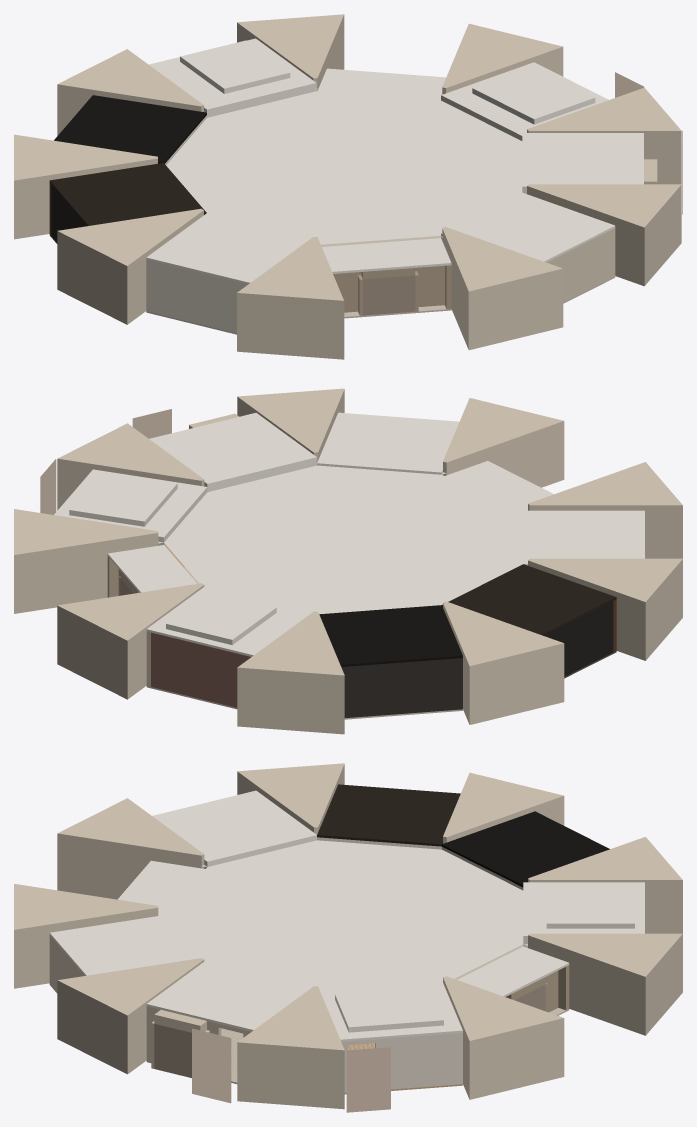
3 renders of one model, top to bottom at view 1: azimuth 30°, elevation 25°; view 2: azimuth 150°, elevation 25°; view 3: azimuth 270°, elevation 25°, orthographic.
Parts seen in each view (by area): view 1: plafon aula, blok sudut.013, blok sudut.014, blok sudut.015, blok sudut.012, plafon.015, plafon.012, blok sudut.016, plafon.017, plafon.016, plafon.013, blok sudut.011 (+16 smaller); view 2: plafon aula, blok sudut.017, blok sudut.016, blok sudut.010, blok sudut.009, blok sudut.015, blok sudut.013, plafon.017, plafon.013, plafon.012, plafon.016, blok sudut.014 (+15 smaller); view 3: plafon aula, blok sudut.009, blok sudut.011, blok sudut.010, blok sudut.012, blok sudut.014, plafon.016, plafon.012, plafon.015, blok sudut.013, plafon.017, blok sudut.017 (+15 smaller).
Part boxes in pixels (box(x1,y1,x2,y2)): plafon aula: box(166, 91, 522, 244); blok sudut.013: box(442, 227, 563, 350); blok sudut.014: box(237, 237, 344, 359); blok sudut.015: box(57, 208, 203, 324); blok sudut.012: box(527, 184, 681, 286); plafon.015: box(146, 213, 310, 284); plafon.012: box(522, 133, 643, 188); blok sudut.016: box(14, 134, 157, 239); plafon.017: box(54, 95, 206, 163); plafon.016: box(49, 163, 206, 226); plafon.013: box(441, 192, 615, 262); blok sudut.011: box(527, 87, 681, 184); plafon aula: box(164, 465, 523, 614); blok sudut.017: box(237, 611, 344, 734); blok sudut.016: box(443, 601, 564, 724); blok sudut.010: box(14, 509, 158, 613); blok sudut.009: box(57, 583, 204, 699); blok sudut.015: box(528, 558, 682, 660); blok sudut.013: box(443, 398, 564, 487); plafon.017: box(319, 605, 462, 666); plafon.013: box(317, 412, 459, 474); plafon.012: box(149, 413, 316, 485); plafon.016: box(442, 564, 616, 635); blok sudut.014: box(528, 462, 682, 558); plafon aula: box(165, 840, 523, 988); blok sudut.009: box(528, 933, 682, 1035); blok sudut.011: box(237, 986, 344, 1109); blok sudut.010: box(443, 976, 564, 1099); blok sudut.012: box(57, 958, 204, 1074); blok sudut.014: box(57, 798, 204, 899); plafon.016: box(317, 784, 460, 846); plafon.012: box(146, 959, 316, 1031); plafon.015: box(152, 790, 316, 863); blok sudut.013: box(14, 883, 158, 988); plafon.017: box(442, 811, 609, 887); blok sudut.017: box(528, 837, 682, 933).
Size of the model in its own units: 40.8 by 4.3 by 40.13.
